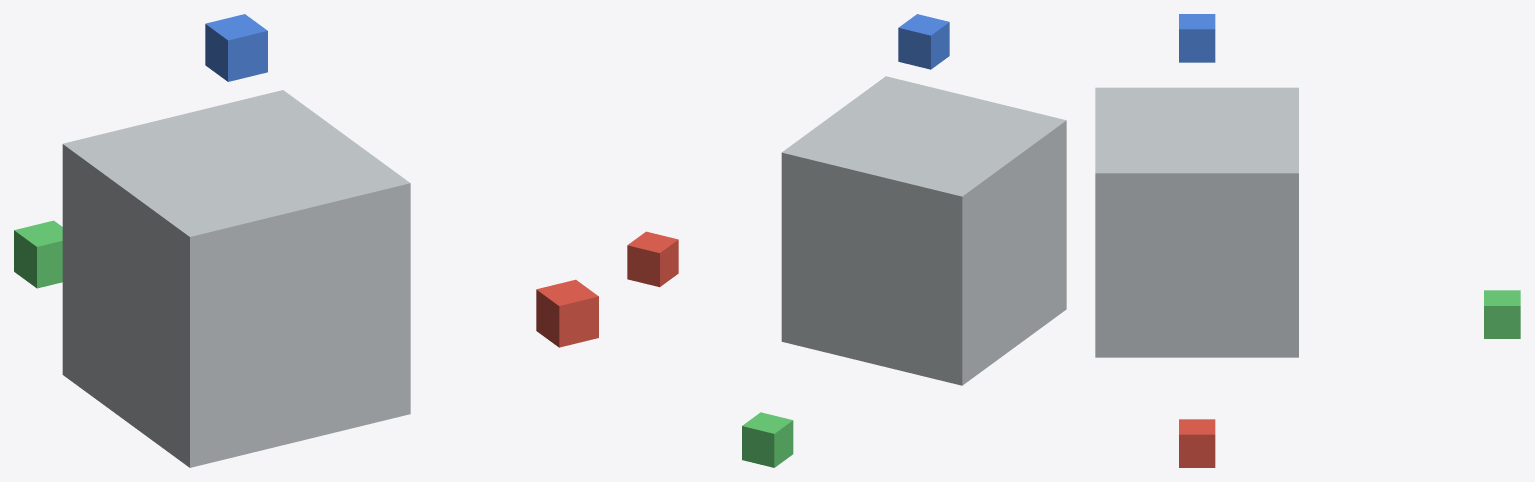
File: scale-fixture.glb
The picture shows the model from 3 angles, left to right: view 1: azimuth 30°, elevation 25°; view 2: azimuth 150°, elevation 25°; view 3: azimuth 270°, elevation 25°; orthographic projection. The views are drawn at different scales.
Parts seen in each view (by area): view 1: fixture_cube_1m, axis_blender_x, axis_blender_z, axis_blender_y; view 2: fixture_cube_1m, axis_blender_x, axis_blender_z, axis_blender_y; view 3: fixture_cube_1m, axis_blender_x, axis_blender_y, axis_blender_z.
Part boxes in pixels (bbox=[...]): fixture_cube_1m: bbox=[62, 90, 410, 467]; axis_blender_x: bbox=[536, 279, 598, 347]; axis_blender_z: bbox=[205, 14, 267, 81]; axis_blender_y: bbox=[14, 220, 62, 288]; fixture_cube_1m: bbox=[781, 76, 1066, 385]; axis_blender_x: bbox=[627, 231, 678, 287]; axis_blender_z: bbox=[898, 14, 949, 69]; axis_blender_y: bbox=[742, 412, 793, 467]; fixture_cube_1m: bbox=[1095, 87, 1298, 357]; axis_blender_x: bbox=[1179, 419, 1215, 467]; axis_blender_y: bbox=[1484, 290, 1520, 338]; axis_blender_z: bbox=[1179, 14, 1215, 62].
Bounding box in the file's own units: 2.09 × 1.68 × 2.09.
